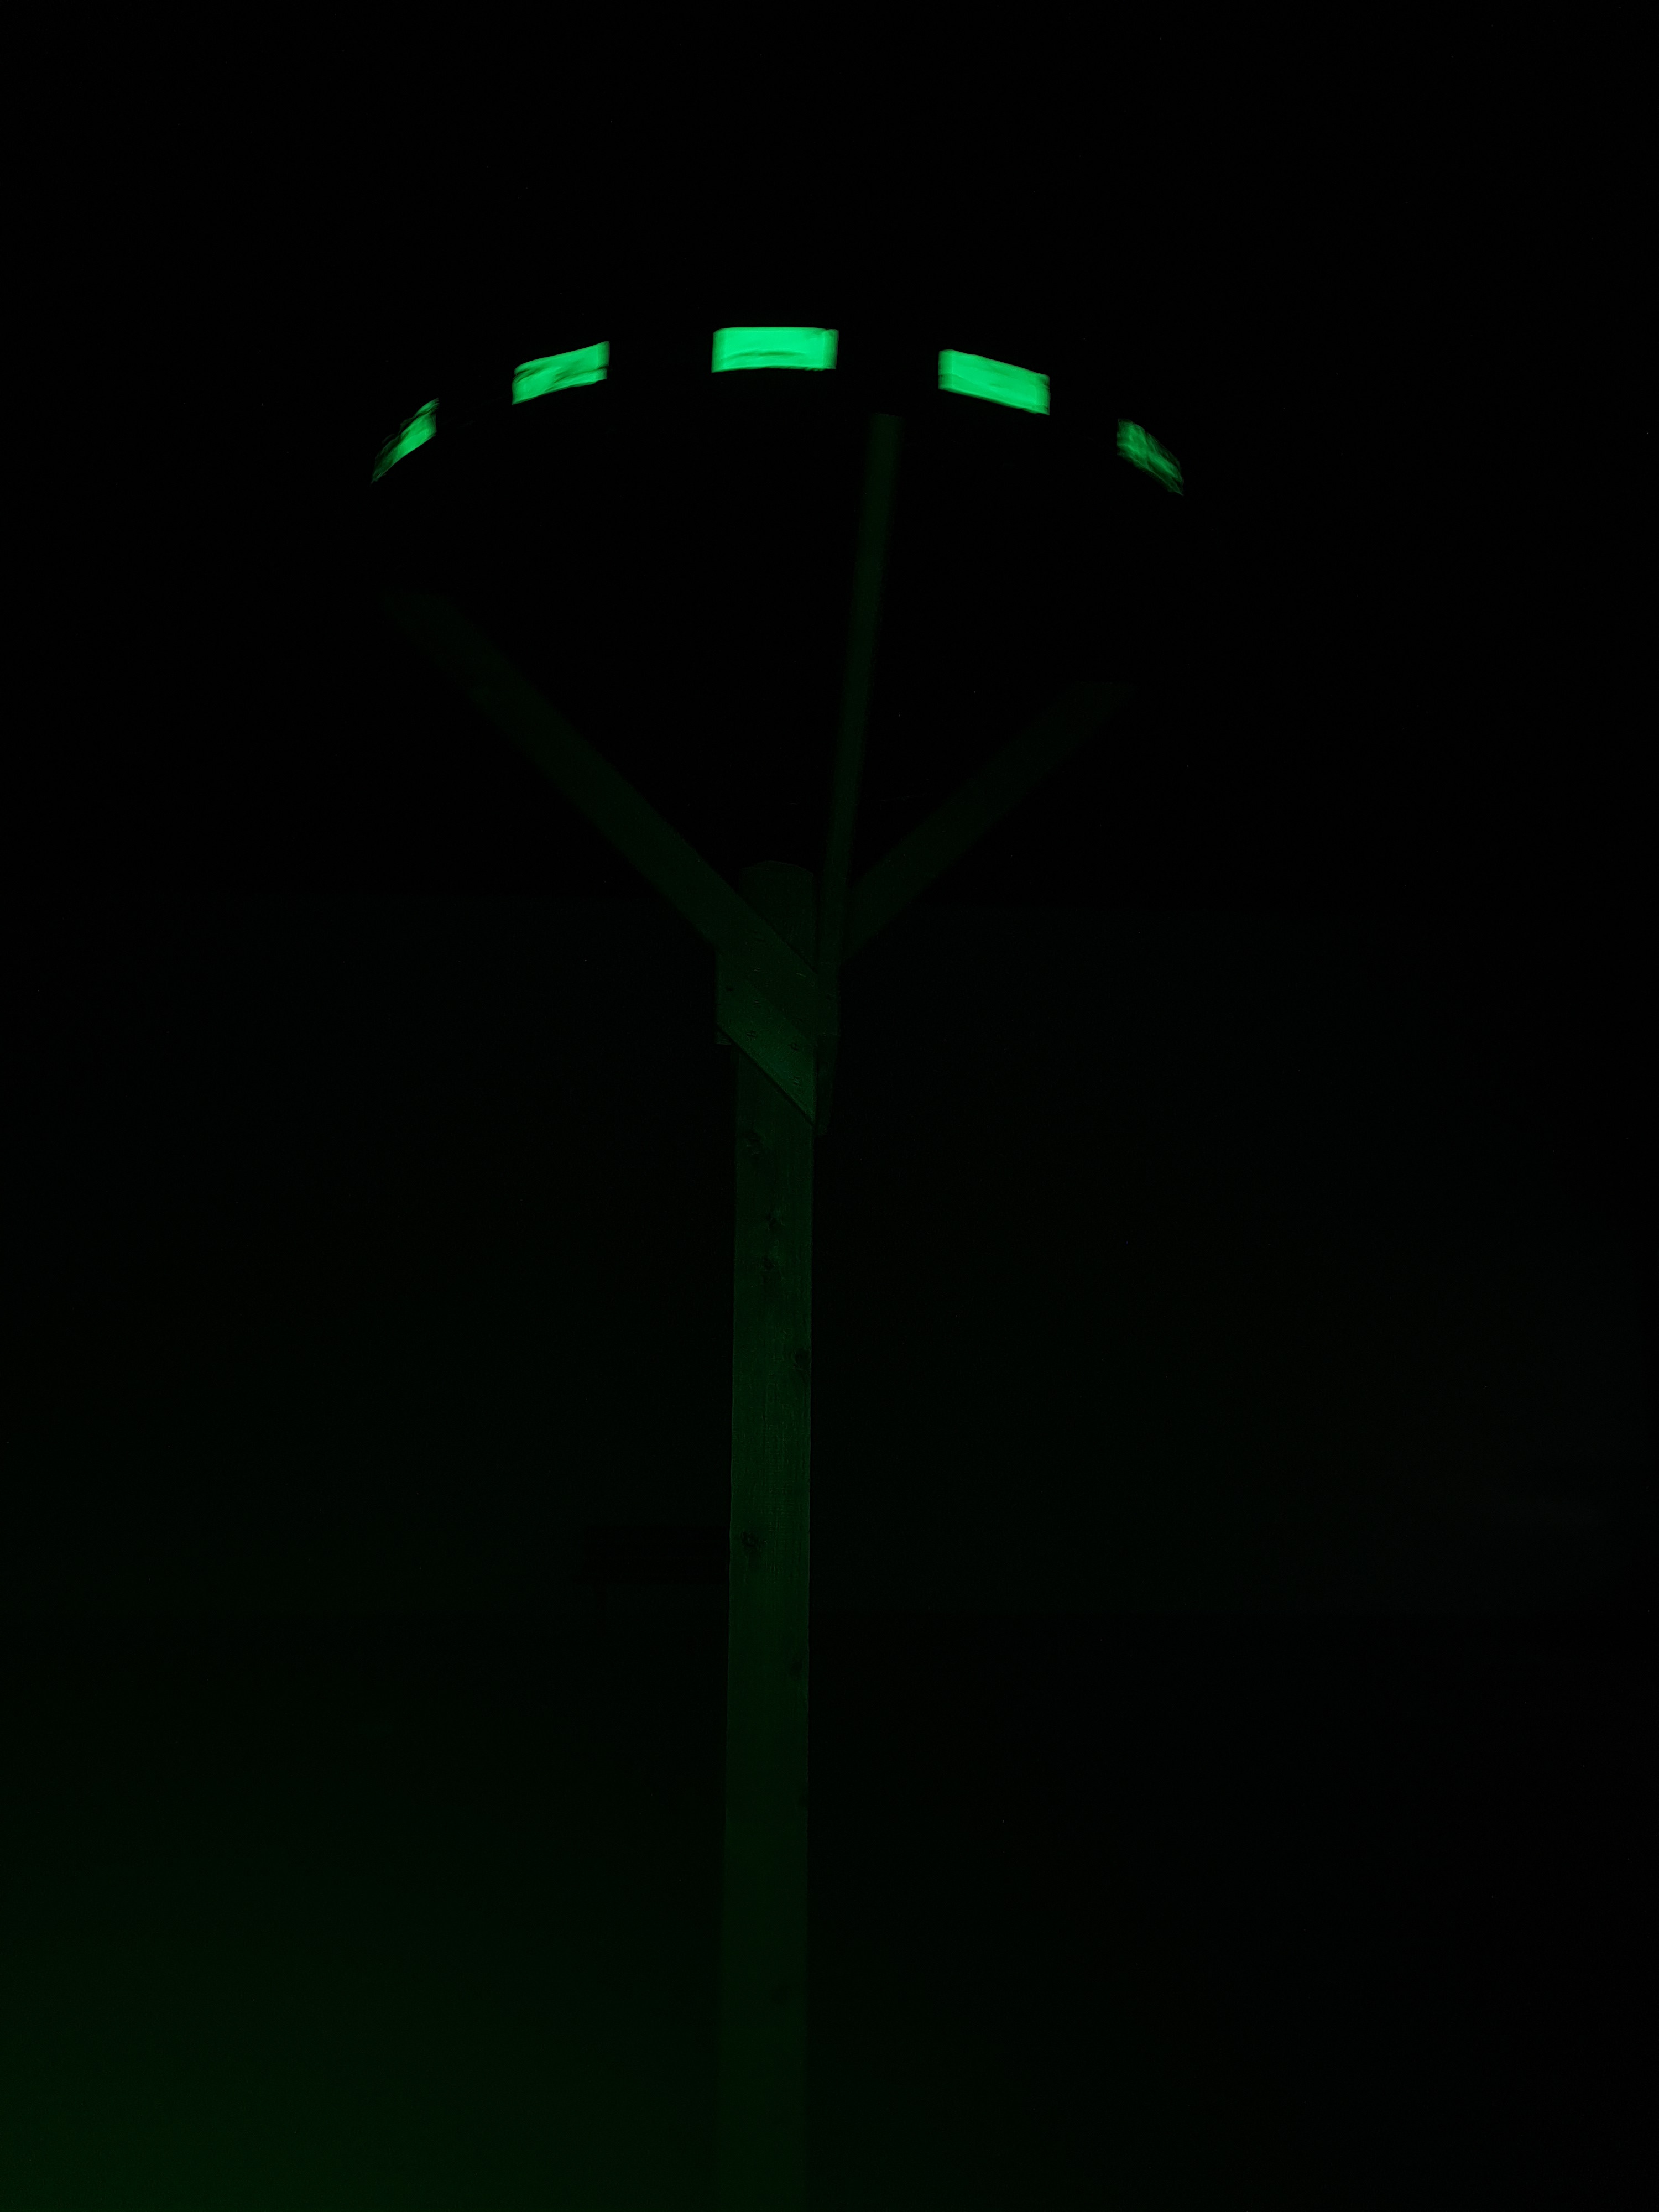hoop: (369, 322, 1182, 493)
